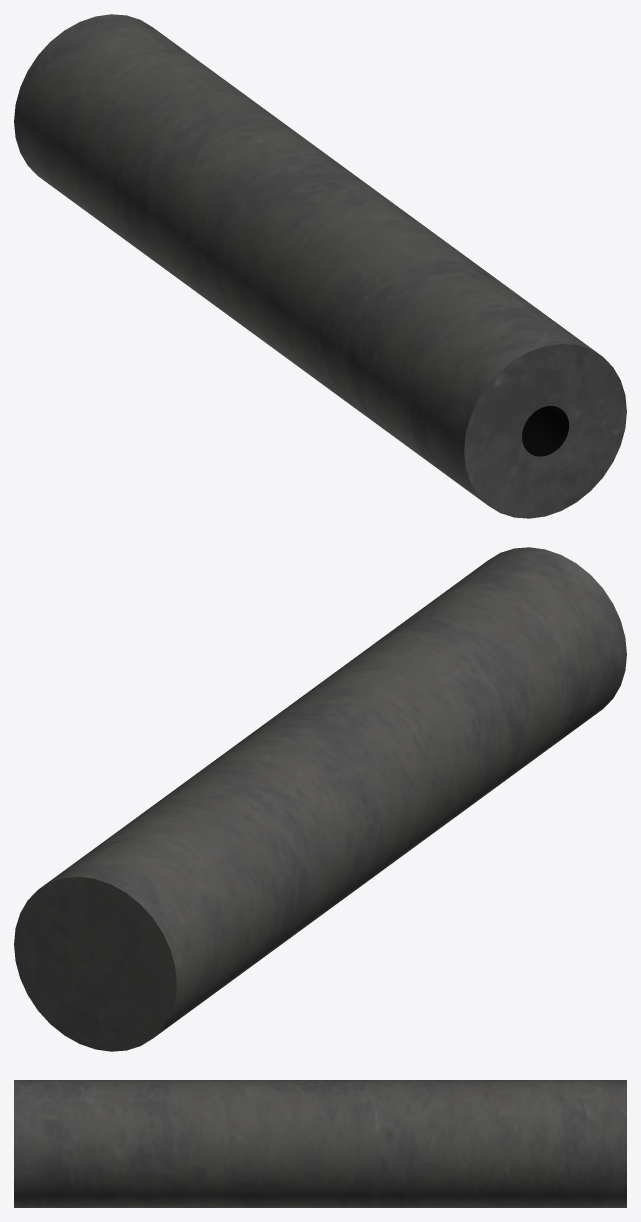
File: M4_Suppressor.fbx
3 renders of one model, top to bottom at view 1: azimuth 30°, elevation 25°; view 2: azimuth 150°, elevation 25°; view 3: azimuth 270°, elevation 25°, orthographic. The views are drawn at different scales.
Visible parts, largest first — view 1: Cylinder; view 2: Cylinder; view 3: Cylinder.
Boxes of the visible parts, x1,y1,x2,y2 form: Cylinder: [14, 14, 626, 518]; Cylinder: [14, 547, 626, 1051]; Cylinder: [14, 1080, 626, 1207].
Bounding box in the file's own units: 10.05 × 10.05 × 48.13.
